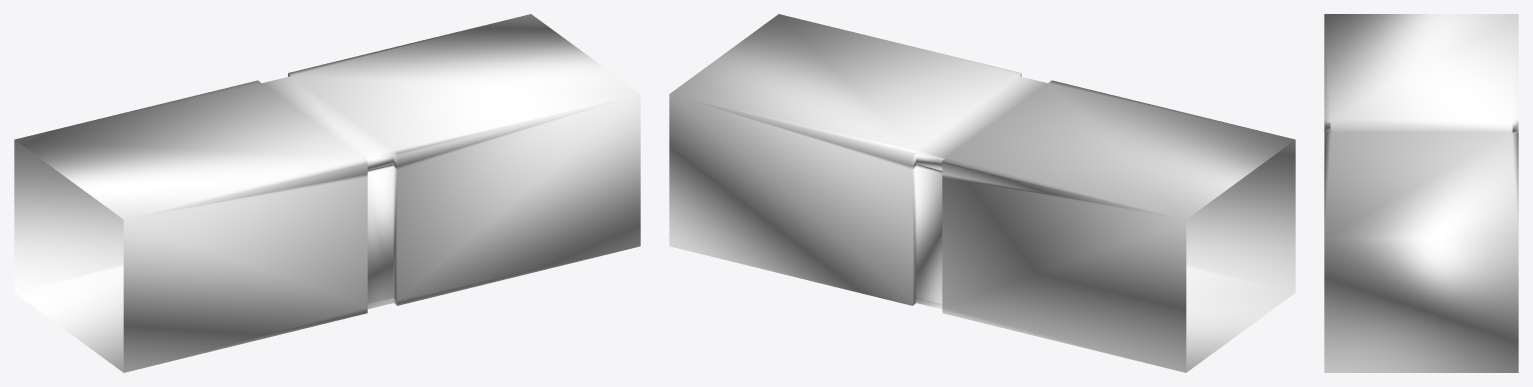
File: set_add_effect_whiteout.fbx
3 views of the same model, side by side, from view 1: azimuth 30°, elevation 25°; view 2: azimuth 150°, elevation 25°; view 3: azimuth 270°, elevation 25° (orthographic). The views are drawn at different scales.
Parts seen in each view (by area): view 1: set_add_effect_whiteout; view 2: set_add_effect_whiteout; view 3: set_add_effect_whiteout.
Boxes of the visible parts, x1=… form: set_add_effect_whiteout: x1=14, y1=14, x2=640, y2=372; set_add_effect_whiteout: x1=669, y1=14, x2=1295, y2=372; set_add_effect_whiteout: x1=1324, y1=14, x2=1518, y2=372.
Bounding box in the file's own units: 1041 × 295 × 382.
